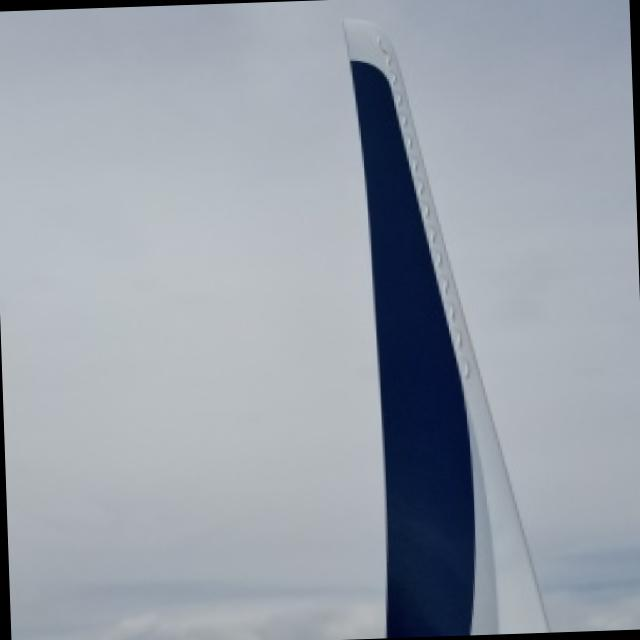healthy: (341, 18, 546, 636)
